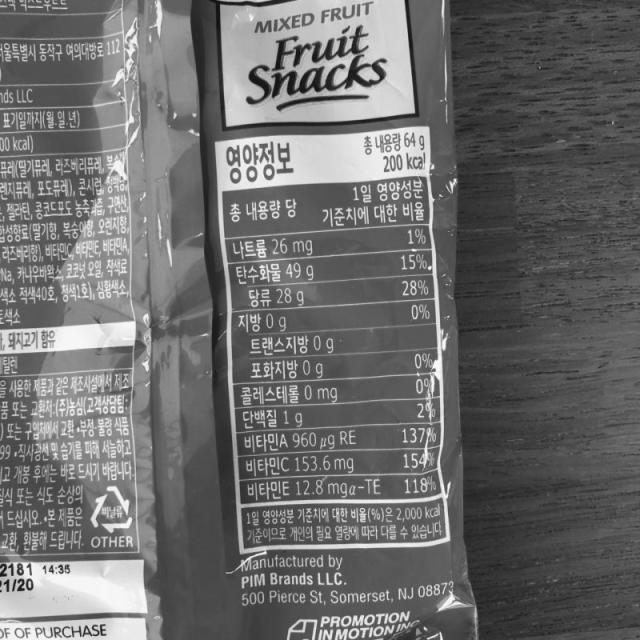Nutrition Label: (215, 131, 466, 560)
